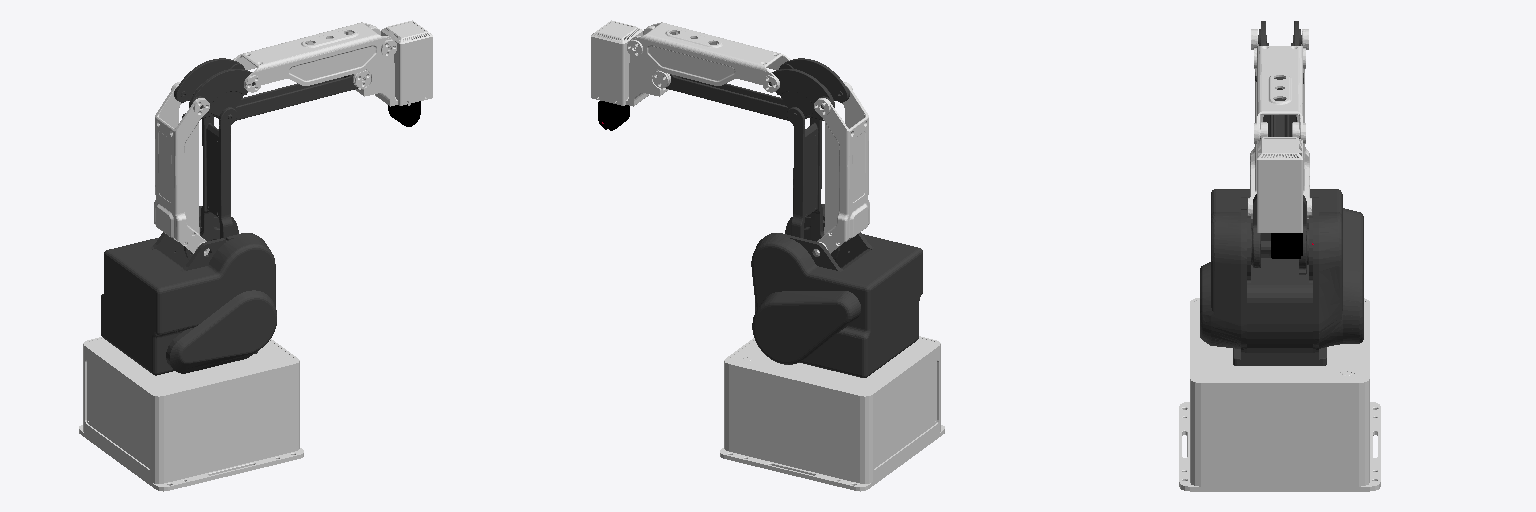
The robot description file, URDF, robot "mg400":
<?xml version="1.0" encoding="utf-8"?>
<!-- This URDF was automatically created by SolidWorks to URDF Exporter! Originally created by [author] ([email redacted]) 
     Commit Version: 1.6.0-1-g15f4949  Build Version: 1.6.7594.29634
     For more information, please see http://wiki.ros.org/sw_urdf_exporter -->
<robot name="mg400">
  <!-- Colors -->
  <material name="DarkGrey">
    <color rgba="0.3 0.3 0.3 1.0"/>
  </material>
  <material name="Grey">
    <color rgba="0.4 0.4 0.4 1.0"/>
  </material>
  <material name="Orange">
    <color rgba="1.0 0.423529411765 0.0392156862745 1.0"/>
  </material>
  <material name="Blue">
    <color rgba="0 0.1 1.0 1.0"/>
  </material>
  <material name="LightGrey">
    <color rgba="0.9 0.9 0.9 1.0"/>
  </material>
  <material name="Red">
    <color rgba="0.9 0 0.2 1.0"/>
  </material>
  <material name="TransparentRed">
    <color rgba="0.9 0 0.2 0.5"/>
  </material>
  <material name="Green">
    <color rgba="0 0.9 0.5 1.0"/>
  </material>
  <material name="Yellow">
    <color rgba="0.7 0.7 0 1.0"/>
  </material>
  <material name="LightBlue">
    <color rgba="0. 0.3 1.0 1.0"/>
  </material>
  <material name="Black">
    <color rgba="0.05 0.05 0.05 1.0"/>
  </material>
  <material name="White">
    <color rgba="1.0 1.0 1.0 1.0" />
  </material>

  
    <link name="base_link">
        <inertial>
            <origin xyz="0.000600637001378879 -2.53487071137343E-07 0.0560927888040551" rpy="0 0 0"/>
            <mass value="3.62164811695094"/>
            <inertia
                    ixx="0.0126582175296405"
                    ixy="6.66832041405407E-08"
                    ixz="-3.52548281362717E-06"
                    iyy="0.0145891535260188"
                    iyz="5.15901657460475E-08"
                    izz="0.0195045116656827"/>
        </inertial>
        <visual>
            <origin xyz="0 0 0" rpy="0 0 0"/>
            <geometry>
                <mesh filename="package://mg400/meshes/base_link.STL"/>
            </geometry>
            <material name="LightGrey"/>

        </visual>
        <collision>
            <origin xyz="0 0 0" rpy="0 0 0"/>
            <geometry>
                <mesh filename="package://mg400/meshes/base_link.STL"/>
            </geometry>
        </collision>
    </link>

    <link name="link1">
        <inertial>
            <origin xyz="-0.0046209286967387 -6.88107982318643E-05 0.0709919358465827" rpy="0 0 0"/>
            <mass value="1.77056222753813"/>
            <inertia
                    ixx="0.00605885293080088"
                    ixy="0.000156081820035162"
                    ixz="-0.00021785654850453"
                    iyy="0.00579381982249127"
                    iyz="6.20876898015621E-05"
                    izz="0.00741058257251941"/>
        </inertial>
        <visual>
            <origin xyz="0 0 0" rpy="0 0 0"/>
            <geometry>
                <mesh filename="package://mg400/meshes/link1.STL"/>
            </geometry>
            <material name="DarkGrey"/>
        </visual>
        <collision>
            <origin xyz="0 0 0" rpy="0 0 0"/>
            <geometry>
                <mesh filename="package://mg400/meshes/link1.STL"/>
            </geometry>
        </collision>
    </link>

    <joint name="j1" type="revolute">
        <origin xyz="-0.00500000000000002 0 0.109" rpy="0 0 0"/>
        <parent link="base_link"/>
        <child link="link1"/>
        <axis xyz="0 0 1"/>
        <limit lower="-3.14" upper="3.14" effort="0" velocity="0"/>
    </joint>

    <link name="link2_1">
        <inertial>
            <origin xyz="-0.00321788524756698 0.0352926570826593 0.0596131328734945" rpy="0 0 0"/>
            <mass value="0.0866115884541459"/>
            <inertia
                    ixx="0.000338551627157209"
                    ixy="-2.78858228577314E-09"
                    ixz="1.05212346076681E-05"
                    iyy="0.000307789653713489"
                    iyz="-1.36109590152488E-06"
                    izz="3.89949940178023E-05"/>
        </inertial>
        <visual>
            <origin xyz="0 0 0" rpy="0 0 0"/>
            <geometry>
                <mesh filename="package://mg400/meshes/link2_1.STL"/>
            </geometry>
            <material name="DarkGrey"/>
        </visual>
        <collision>
            <origin xyz="0 0 0" rpy="0 0 0"/>
            <geometry>
                <mesh filename="package://mg400/meshes/link2_1.STL"/>
            </geometry>
        </collision>
    </link>

    <joint name="j2_1" type="revolute">
        <origin xyz="0.0435007595118091 -0.0357748756218899 0.118995682641123" rpy="0 0 0"/>
        <parent link="link1"/>
        <child link="link2_1"/>
        <axis xyz="0 1 0"/>
        <limit lower="-3.14" upper="3.14" effort="0" velocity="0"/>
    </joint>

    <link name="link3_1">
        <inertial>
            <origin xyz="0.0821679417596488 0.000113044685842874 -0.00333758753063973" rpy="0 0 0"/>
            <mass value="0.0375214831045061"/>
            <inertia
                    ixx="2.54761091812684E-06"
                    ixy="3.73102654491378E-07"
                    ixz="-2.02625705871199E-06"
                    iyy="0.000164234314177935"
                    iyz="-1.44731096825347E-08"
                    izz="0.000164331500854172"/>
        </inertial>
        <visual>
            <origin xyz="0 0 0" rpy="0 0 0"/>
            <geometry>
                <mesh filename="package://mg400/meshes/link3_1.STL"/>
            </geometry>
            <material name="DarkGrey"/>
        </visual>
        <collision>
            <origin xyz="0 0 0" rpy="0 0 0"/>
            <geometry>
                <mesh filename="package://mg400/meshes/link3_1.STL"/>
            </geometry>
        </collision>
    </link>

    <joint name="j3_1" type="revolute">
        <origin xyz="-0.0010512570171516 0.0357748756218898 0.175001164344716" rpy="0 0 0"/>
        <parent link="link2_1"/>
        <child link="link3_1"/>
        <axis xyz="0 1 0"/>
        <limit lower="-3.14" upper="3.14" effort="0" velocity="0"/>
    </joint>

    <link name="link4_1">
        <inertial>
            <origin xyz="0.0387878182928232 0.0170848333998282 -0.0024610990490942" rpy="0 0 0"/>
            <mass value="0.0628979533925801"/>
            <inertia
                    ixx="4.78483605712844E-05"
                    ixy="1.42081909356751E-07"
                    ixz="8.32917079044309E-06"
                    iyy="5.42362047732042E-05"
                    iyz="-2.90608446019989E-08"
                    izz="3.36120409842199E-05"/>
        </inertial>
        <visual>
            <origin xyz="0 0 0" rpy="0 0 0"/>
            <geometry>
                <mesh filename="package://mg400/meshes/link4_1.STL"/>
            </geometry>
            <material name="LightGrey"/>
        </visual>
        <collision>
            <origin xyz="0 0 0" rpy="0 0 0"/>
            <geometry>
                <mesh filename="package://mg400/meshes/link4_1.STL"/>
            </geometry>
        </collision>
    </link>

    <joint name="j4_1" type="revolute">
        <origin xyz="0.174969784055705 -0.0170000000000335 0.00325187137614585" rpy="0 0 0"/>
        <parent link="link3_1"/>
        <child link="link4_1"/>
        <axis xyz="0 1 0"/>
        <limit lower="-3.14" upper="3.14" effort="0" velocity="0"/>
    </joint>

    <link name="link5">
        <inertial>
            <origin xyz="4.24246458685662E-07 3.08507851181768E-14 -0.0349688816440933" rpy="0 0 0"/>
            <mass value="0.0965276919819365"/>
            <inertia
                    ixx="4.98589992160928E-05"
                    ixy="-1.534865545378E-12"
                    ixz="3.46424449605658E-10"
                    iyy="4.98589881725446E-05"
                    iyz="-5.64890953414983E-17"
                    izz="2.130463008359E-05"/>
        </inertial>
        <visual>
            <origin xyz="0 0 0" rpy="0 0 0"/>
            <geometry>
                <mesh filename="package://mg400/meshes/link5.STL"/>
            </geometry>
            <material name="LightGrey"/>
        </visual>
        <collision>
            <origin xyz="0 0 0" rpy="0 0 0"/>
            <geometry>
                <mesh filename="package://mg400/meshes/link5.STL"/>
            </geometry>
        </collision>
    </link>

    <joint name="j5" type="revolute">
        <origin xyz="0.0659996239003897 0.0170000000000371 0.031000800715573" rpy="0 0 0"/>
        <parent link="link4_1"/>
        <child link="link5"/>
        <axis xyz="-1.19408295462994E-05 0 0.999999999928708"/>
        <limit lower="-3.14" upper="3.14" effort="0" velocity="0"/>
    </joint>

    <link name="link2_2">
        <inertial>
            <origin xyz="-0.0201111131723385 0.0304999635268521 0.073632809340276" rpy="0 0 0"/>
            <mass value="0.0662546292985346"/>
            <inertia
                    ixx="0.000218973873589181"
                    ixy="3.0147933007673E-10"
                    ixz="2.51402553227571E-06"
                    iyy="0.000200510070261609"
                    iyz="-1.41837669904595E-09"
                    izz="3.74316777806776E-05"/>
        </inertial>
        <visual>
            <origin xyz="0 0 0" rpy="0 0 0"/>
            <geometry>
                <mesh filename="package://mg400/meshes/link2_2.STL"/>
            </geometry>
            <material name="LightGrey"/>
        </visual>
        <collision>
            <origin xyz="0 0 0" rpy="0 0 0"/>
            <geometry>
                <mesh filename="package://mg400/meshes/link2_2.STL"/>
            </geometry>
        </collision>
    </link>

    <joint name="j2_2" type="revolute">
        <origin xyz="0.00452885682964267 -0.0305 0.141500000000001" rpy="0 0 0"/>
        <parent link="link1"/>
        <child link="link2_2"/>
        <axis xyz="0 1 0"/>
        <limit lower="-3.14" upper="3.14" effort="0" velocity="0"/>
    </joint>

    <link name="link3_2">
        <inertial>
            <origin xyz="0.0338566736074436 0.0240208873857428 0.00452229895926692" rpy="0 0 0"/>
            <mass value="0.0366692789294813"/>
            <inertia
                    ixx="7.24011830695354E-06"
                    ixy="7.93542746250724E-10"
                    ixz="-1.69163254472566E-06"
                    iyy="2.34967008246727E-05"
                    iyz="4.55507111386579E-10"
                    izz="1.66831643179488E-05"/>
        </inertial>
        <visual>
            <origin xyz="0 0 0" rpy="0 0 0"/>
            <geometry>
                <mesh filename="package://mg400/meshes/link3_2.STL"/>
            </geometry>
            <material name="DarkGrey"/>
        </visual>
        <collision>
            <origin xyz="0 0 0" rpy="0 0 0"/>
            <geometry>
                <mesh filename="package://mg400/meshes/link3_2.STL"/>
            </geometry>
        </collision>
    </link>

    <joint name="j3_2" type="revolute">
        <origin xyz="-0.00105049750546494 0.00649999999999986 0.174996846985851" rpy="0 0 0"/>
        <parent link="link2_2"/>
        <child link="link3_2"/>
        <axis xyz="0 1 0"/>
        <limit lower="-3.14" upper="3.14" effort="0" velocity="0"/>
    </joint>

    <link name="link4_2">
        <inertial>
            <origin xyz="0.0876391591012518 0.023499867452275 0.00831492252441945" rpy="0 0 0"/>
            <mass value="0.0453569016333092"/>
            <inertia
                    ixx="2.00037596001325E-05"
                    ixy="3.34474706250153E-09"
                    ixz="2.17594982354756E-07"
                    iyy="0.000132049841023893"
                    iyz="5.36978669669685E-10"
                    izz="0.000141813978894428"/>
        </inertial>
        <visual>
            <origin xyz="0 0 0" rpy="0 0 0"/>
            <geometry>
                <mesh filename="package://mg400/meshes/link4_2.STL"/>
            </geometry>
            <material name="LightGrey"/>
        </visual>
        <collision>
            <origin xyz="0 0 0" rpy="0 0 0"/>
            <geometry>
                <mesh filename="package://mg400/meshes/link4_2.STL"/>
            </geometry>
        </collision>
    </link>

    <joint name="j4_2" type="revolute">
        <origin xyz="0.0678965856063864 0.000500000000000073 0.0119719999403219" rpy="0 0 0"/>
        <parent link="link3_2"/>
        <child link="link4_2"/>
        <axis xyz="0 1 0"/>
        <limit lower="-3.14" upper="3.14" effort="0" velocity="0"/>
    </joint>

  <!--dummy joint-->
  <joint name="ee_joint" type="fixed">
    <parent link="link5"/>
    <child link="ee_link"/>
    <origin xyz="0 0 -0.065" rpy="0 0 0"/>
  </joint>

  <link name="ee_link">
    <visual>
      <origin rpy="0 0 0" xyz="0 0 0"/>
      <geometry>
        <sphere radius="0.005"/>
      </geometry>
        <material name="Red"/>
    </visual>
    <collision>
      <geometry>
        <sphere radius="0.001"/>
      </geometry>
      <origin rpy="0 0 0" xyz="0.0 0 0"/>
    </collision>
    <inertial>
      <mass value="0.0"/>
      <origin rpy="-3.14 0.0 1.57" xyz="0.0 0.0 0.0"/>
      <inertia ixx="0.001" ixy="0.0" ixz="0.0" iyy="0.001" iyz="0.0" izz="0.001"/>
    </inertial>
  </link>

      <!-- TacTip -->



      <!-- digitac -->

      <!-- <link name="tactip_adapter_link">
        <inertial>
          <origin rpy="0 0 0" xyz="0 0 0"/>
           <mass value="0.1"/>
           <inertia ixx="0.001" ixy="0" ixz="0" iyy="0.001" iyz="0" izz="0.001"/>
        </inertial>
        <visual>
          <origin rpy="0 0 0" xyz="0 0 0"/>
          <geometry>
    				<mesh filename="../tactip/right_angle_tactip/adapter/right_angle_adapter.obj" scale="1.0 1.0 1.0"/>
          </geometry>
           <material name="whitish">
            <color rgba="0.8 0.8 0.8 1.0"/>
          </material>
        </visual>
        <collision>
          <origin rpy="0 0 0" xyz="0 0 0"/>
          <geometry>
    				<mesh filename="../tactip/right_angle_tactip/adapter/right_angle_adapter.obj" scale="1.0 1.0 1.0"/>
          </geometry>
        </collision>
      </link>

      <joint name="digitac_ee_joint" type="fixed">
        <parent link="ee_link"/>
        <child link="tactip_adapter_link"/>
        <origin rpy="-1.57 -1.57 0" xyz="0.0 -0.005 -0.04"/>
      </joint> -->


  <link
    name="digitac_body_link">
  <inertial>
      <origin
        xyz="0.0044483897843889 -0.0137570316187898 -1.33478473442024E-08+0.02"
        rpy="0 0 0" />
      <mass
        value="0.00791827593084163" />
      <inertia
        ixx="7.86145751817283E-07"
        ixy="-4.85149902505629E-09"
        ixz="4.89421524982813E-12"
        iyy="1.59818901807298E-06"
        iyz="-2.18755873901251E-12"
        izz="1.06961344577448E-06" />
    </inertial>
    <visual>
      <origin
        xyz="0 0 0.02"
        rpy="0 0 0" />
      <geometry>
        <mesh
          filename="../digitac/standard_digitac/digitac_asmb/meshes/digitac_body.STL" />
      </geometry>
      <material
        name="body_color">
        <color
          rgba="0.0 0.0 0.0 1" />
      </material>
    </visual>
    <collision>
      <origin
        xyz="0 0 0.02"
        rpy="0 0 0" />
      <geometry>
        <mesh
          filename="../digitac/standard_digitac/digitac_asmb/meshes/digitac_body.STL" />
      </geometry>
    </collision>
  </link>

<!-- 
      <joint name="digitac_body_to_adapter" type="fixed">
         <origin rpy="0 3.14 3.14" xyz="0 0 -0.014"/>
         <parent link="tactip_adapter_link"/>
         <child link="digitac_body_link"/>
      </joint> -->


    <joint name="tactip_ee_joint" type="fixed">
        <parent link="ee_link"/>
        <child link="digitac_body_link"/>
        <origin rpy="3.14 -1.57 1.57" xyz="0.0 0.0 -0.03"/>
    </joint>

      
  <link
    name="digitac_tip_link">


        <inertial>
      <origin
        xyz="1.95689617055233E-05 -0.00418318281817305 -0.00513072481258713-0.02"
        rpy="0 0 0" />
      <mass
        value="0.000211579321175967" />
      <inertia
        ixx="1.6421406108058E-08"
        ixy="-3.59682768116548E-11"
        ixz="8.26721658003392E-12"
        iyy="1.10821033019274E-08"
        iyz="-1.94916165896316E-10"
        izz="2.23470337659004E-08" />
    </inertial>
    <visual>
      <origin
        xyz="0 0 -0.02"
        rpy="0 0 0" />
      <geometry>
        <mesh
          filename="../digitac/standard_digitac/digitac_asmb_hollow/meshes/digitac_core.STL" />
      </geometry>
      <material
        name="digitac_skin">
        <color
          rgba="1.0 1.0 1.0 1" />
      </material>
    </visual>
    <collision>
      <origin
        xyz="0 0 -0.02"
        rpy="0 0 0" />
      <geometry>
        <mesh
          filename="../digitac/standard_digitac/digitac_asmb/meshes/digitac_core.STL" />
      </geometry>
    </collision>
  </link>




  <joint
    name="digitac_tip_to_body"
    type="fixed">
    <origin
      xyz="0 0 0"
      rpy="3.14159265358979 0 -1.5707963267949" />
    <parent
      link="digitac_body_link" />
    <child
      link="digitac_tip_link" />
    <axis
      xyz="0 0 0" />
  </joint>


      <!-- TCP -->
      <link name="tcp_link">
        <visual>
          <origin rpy="0 0 0" xyz="0 0 0"/>
          <geometry>
            <sphere radius="0.001"/>
          </geometry>
           <material name="TransparentRed"/>
        </visual>
        <inertial>
          <mass value="0.0"/>
          <origin rpy="0.0 0.0 1.57" xyz="0.0 0.0 0.0"/>
          <inertia ixx="1.0" ixy="0.0" ixz="0.0" iyy="1.0" iyz="0.0" izz="1.0"/>
        </inertial>
      </link>

      <joint name="tcp_joint" type="fixed">
        <parent link="digitac_body_link"/>
        <child link="tcp_link"/>
        <!-- y x z -->
        <origin rpy="1.57 0 -1.57" xyz="0.0007 0.0 0.031"/>
        <!-- <origin rpy="0 0 0" xyz="0.00145 0.0 0.025"/> -->
        <!-- <origin rpy="0 0 0" xyz="0.0018 0.0 0.025"/> -->
      </joint>



</robot>

--- Facts derived from the render (not from the file) ---
Views: 3 orthographic renders of the robot side by side, from view 1: azimuth 30°, elevation 25°; view 2: azimuth 150°, elevation 25°; view 3: azimuth 270°, elevation 25°.
Model mg400 with 13 links and 12 joints (8 revolute, 4 fixed), rooted at base_link, posed all joints at 0.
Visible links, largest first — view 1: base_link, link1, link2_2, link4_2, link4_1, link2_1, link3_2, link3_1, digitac_body_link; view 2: base_link, link1, link2_2, link4_2, link4_1, link2_1, link3_2, link3_1, digitac_body_link; view 3: base_link, link1, link4_1, link4_2, link2_2, link2_1, digitac_body_link.
Link boxes in pixels (x1=…): base_link: x1=79, y1=337, x2=303, y2=491; link1: x1=101, y1=206, x2=276, y2=375; link2_2: x1=154, y1=82, x2=209, y2=255; link4_2: x1=233, y1=22, x2=396, y2=92; link4_1: x1=353, y1=20, x2=432, y2=106; link2_1: x1=200, y1=107, x2=236, y2=241; link3_2: x1=174, y1=58, x2=254, y2=118; link3_1: x1=182, y1=74, x2=357, y2=120; digitac_body_link: x1=388, y1=101, x2=420, y2=126; base_link: x1=720, y1=336, x2=944, y2=491; link1: x1=751, y1=204, x2=922, y2=377; link2_2: x1=814, y1=82, x2=869, y2=255; link4_2: x1=627, y1=22, x2=790, y2=92; link4_1: x1=591, y1=20, x2=670, y2=106; link2_1: x1=787, y1=107, x2=823, y2=241; link3_2: x1=769, y1=58, x2=849, y2=118; link3_1: x1=666, y1=74, x2=823, y2=120; digitac_body_link: x1=598, y1=101, x2=629, y2=130; base_link: x1=1179, y1=298, x2=1380, y2=491; link1: x1=1200, y1=189, x2=1363, y2=365; link4_1: x1=1257, y1=122, x2=1302, y2=232; link4_2: x1=1254, y1=46, x2=1305, y2=143; link2_2: x1=1248, y1=29, x2=1311, y2=218; link2_1: x1=1251, y1=73, x2=1308, y2=274; digitac_body_link: x1=1271, y1=233, x2=1302, y2=258.
Size in the robot's own frame: 0.3954 by 0.19 by 0.4597 metres.
Meshes: 11 distinct files referenced, 10 mesh visuals loaded (10 binary STL); not drawn: 1 (reference not matched to a file when rendering).